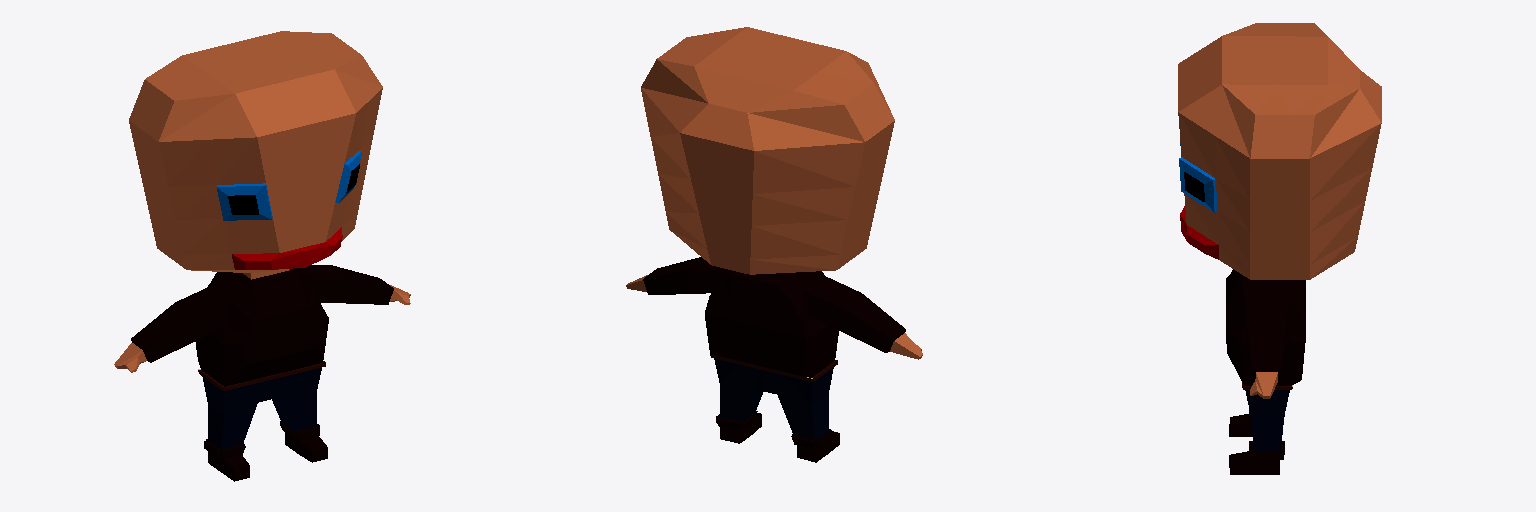
File: HumanOBJ.obj
The picture shows the model from 3 angles: view 1: azimuth 30°, elevation 25°; view 2: azimuth 150°, elevation 25°; view 3: azimuth 270°, elevation 25°; orthographic projection.
Visible parts, largest first — view 1: Cube_Cube.001; view 2: Cube_Cube.001; view 3: Cube_Cube.001.
Part boxes in pixels (x1,y1,x2,y2): Cube_Cube.001: (114, 31, 410, 481); Cube_Cube.001: (626, 27, 922, 462); Cube_Cube.001: (1178, 23, 1381, 474).
Size of the model in its own units: 5.16 by 6.56 by 3.09.